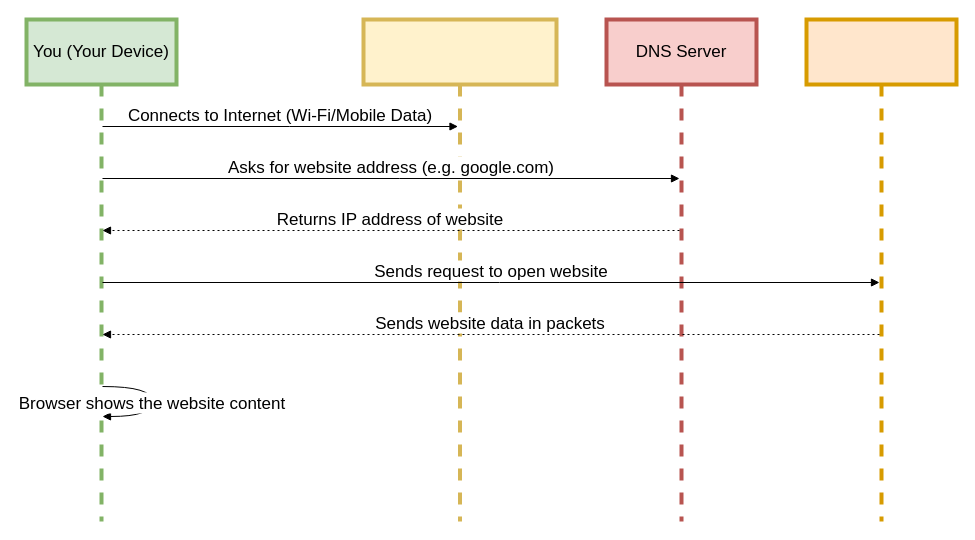
This 975x540 diagram has some shape labels left out. Each missing label, with the box of its shape:
Internet Service Provider: (361, 17, 558, 523)
Website Server: (804, 17, 958, 523)
